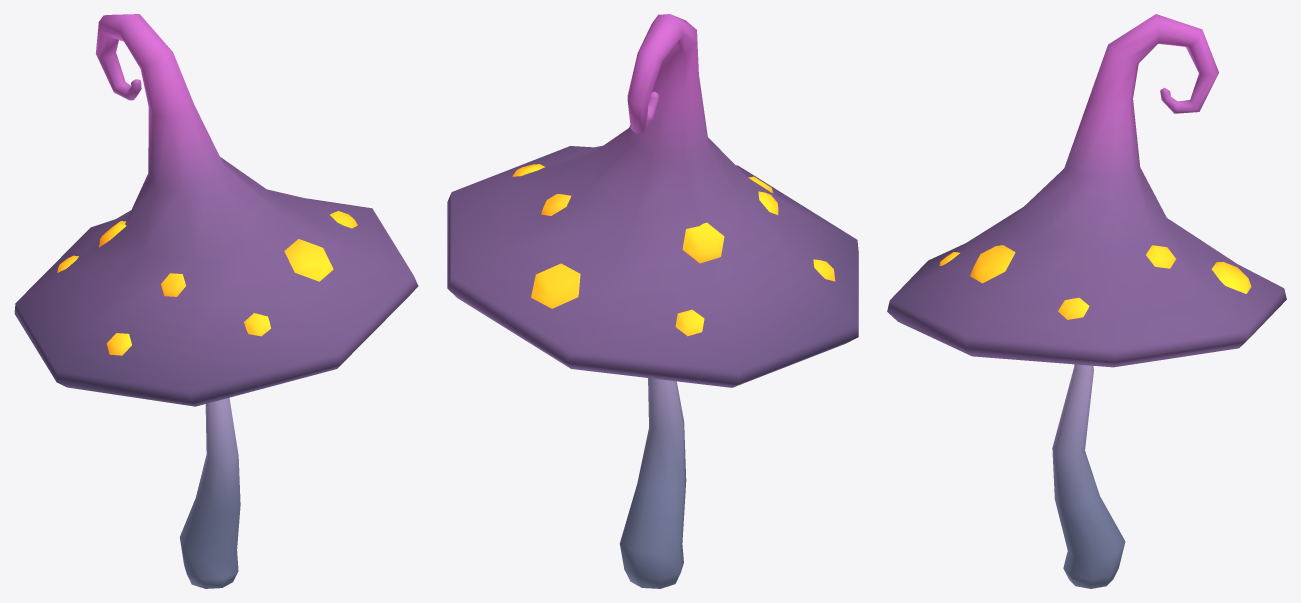
File: mushroom.glb
3 views of the same model, side by side, from view 1: azimuth 30°, elevation 25°; view 2: azimuth 150°, elevation 25°; view 3: azimuth 270°, elevation 25° (orthographic). The views are drawn at different scales.
Parts seen in each view (by area): view 1: Mushroom; view 2: Mushroom; view 3: Mushroom.
Part boxes in pixels (left/top/right/bottom): Mushroom: left=14, top=14, right=418, bottom=588; Mushroom: left=447, top=14, right=858, bottom=588; Mushroom: left=887, top=14, right=1286, bottom=588.
Bounding box in the file's own units: 2.47 × 3.77 × 2.5.
1 material, 1 textured.
